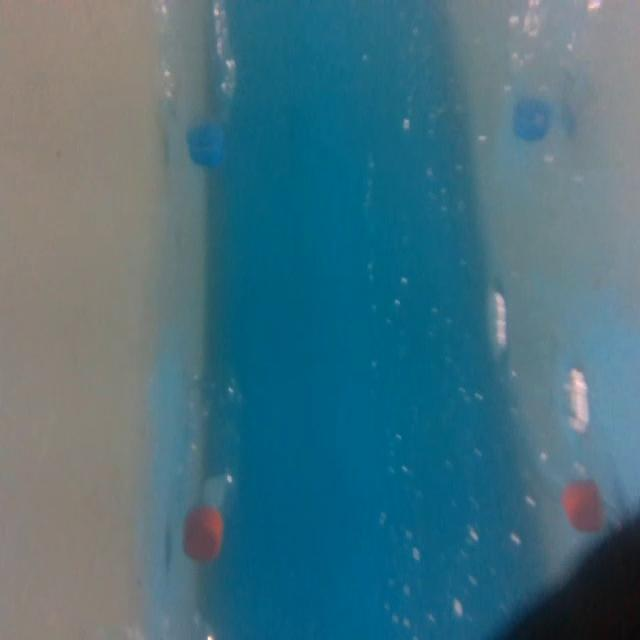plastic bottle: (145, 0, 243, 175), (174, 351, 248, 565)
